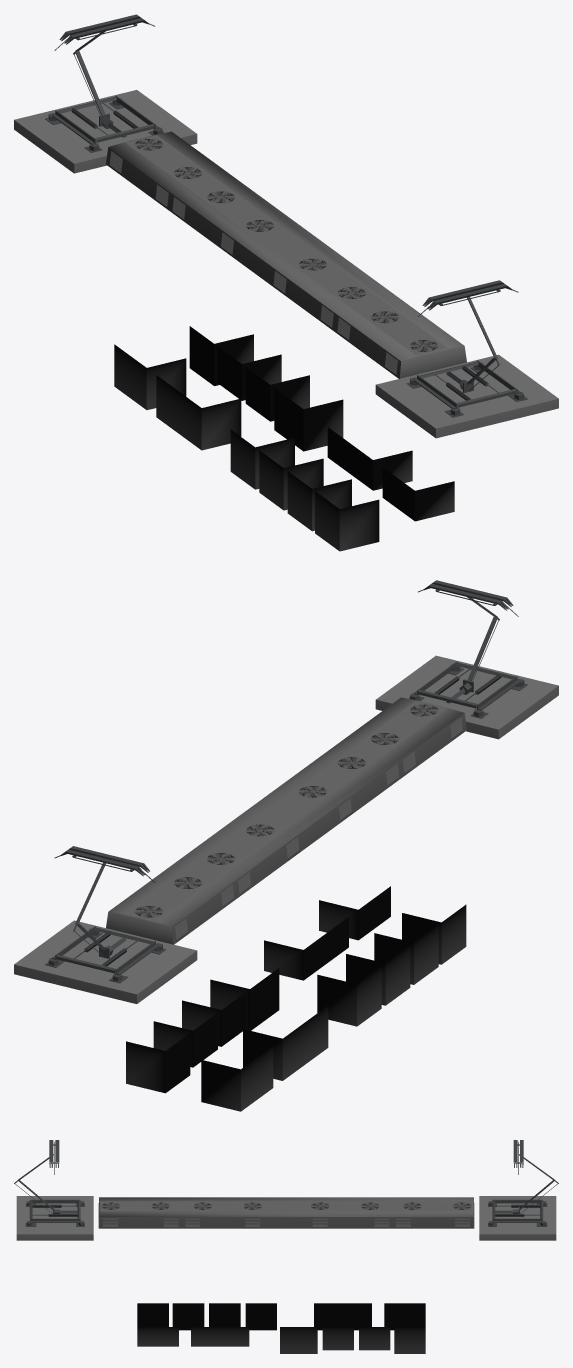
File: H8200_PANTA01.glb
3 renders of one model, top to bottom at view 1: azimuth 30°, elevation 25°; view 2: azimuth 150°, elevation 25°; view 3: azimuth 270°, elevation 25°, orthographic. The views are drawn at different scales.
Visible parts, largest first — view 1: yane00; view 2: yane00; view 3: yane00.
Part boxes in pixels (x1=…): yane00: x1=14, y1=14, x2=558, y2=551; yane00: x1=14, y1=580, x2=558, y2=1111; yane00: x1=14, y1=1140, x2=558, y2=1353.
Size of the model in its own units: 5.55 by 12.41 by 32.82.
3 materials, 3 textured.
